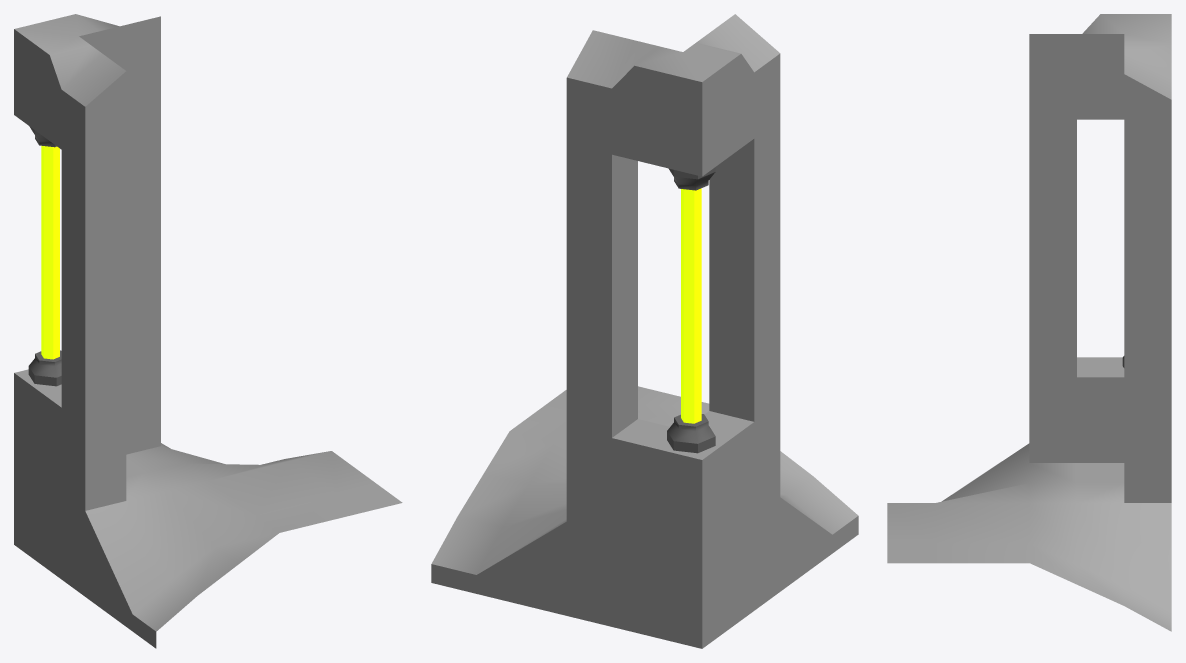
Rendered from SM_CornerPiece.fbx.
3 views of the same model, side by side, from view 1: azimuth 30°, elevation 25°; view 2: azimuth 150°, elevation 25°; view 3: azimuth 270°, elevation 25° (orthographic). The views are drawn at different scales.
Visible parts, largest first — view 1: polySurface8, polySurface5; view 2: polySurface8, polySurface5; view 3: polySurface8.
Boxes of the visible parts, x1,y1,x2,y2 form: polySurface8: [14, 14, 402, 648]; polySurface5: [28, 126, 61, 386]; polySurface8: [431, 14, 858, 648]; polySurface5: [667, 167, 715, 453]; polySurface8: [887, 14, 1171, 631].
Bounding box in the file's own units: 30 × 60 × 30.
